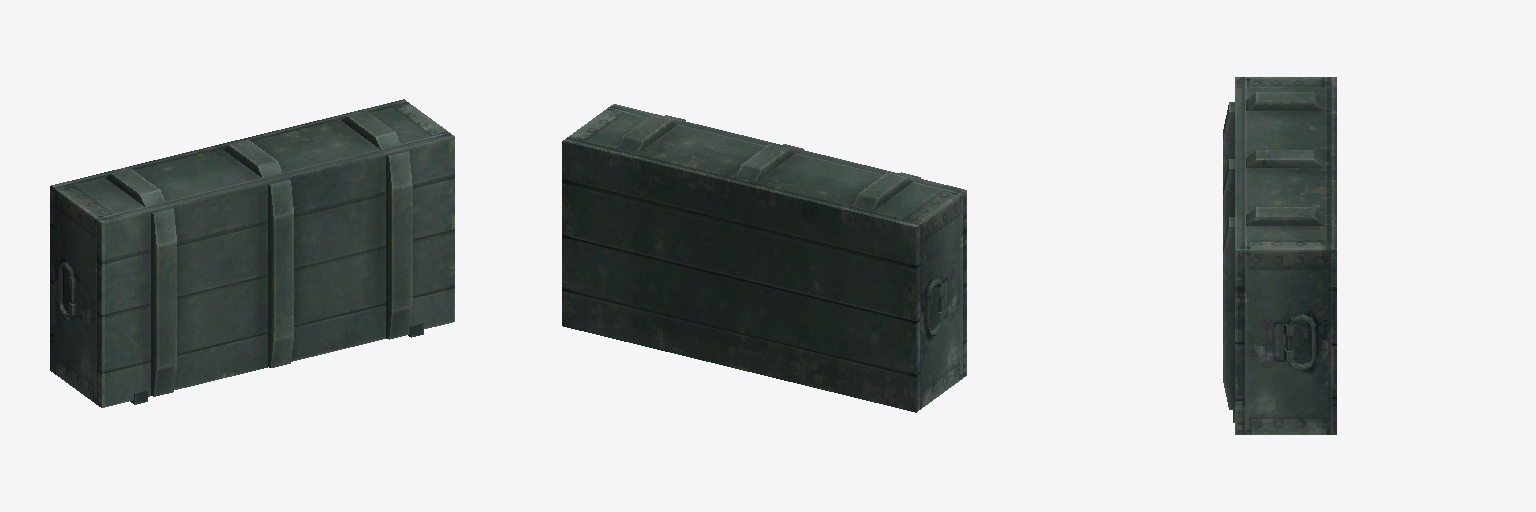
3 renders of one model, left to right at view 1: azimuth 30°, elevation 25°; view 2: azimuth 150°, elevation 25°; view 3: azimuth 270°, elevation 25°, orthographic.
Parts seen in each view (by area): view 1: studio.craterecoil_ref.mesh_0; view 2: studio.craterecoil_ref.mesh_0; view 3: studio.craterecoil_ref.mesh_0.
Boxes of the visible parts, box(x1,y1,x2,y2) form: studio.craterecoil_ref.mesh_0: box(50, 99, 454, 407); studio.craterecoil_ref.mesh_0: box(562, 104, 966, 412); studio.craterecoil_ref.mesh_0: box(1223, 77, 1336, 434).
Size of the model in its own units: 34.7 by 18.63 by 9.54.
Materials: 1 (1 with a texture image).